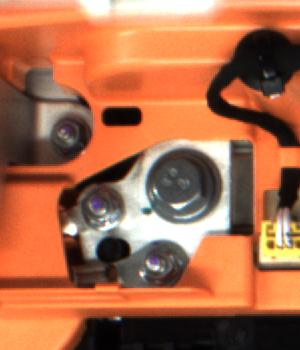nut_b: (138, 144, 225, 222)
screw_s: (46, 111, 83, 155), (139, 247, 182, 284), (85, 188, 121, 229)
